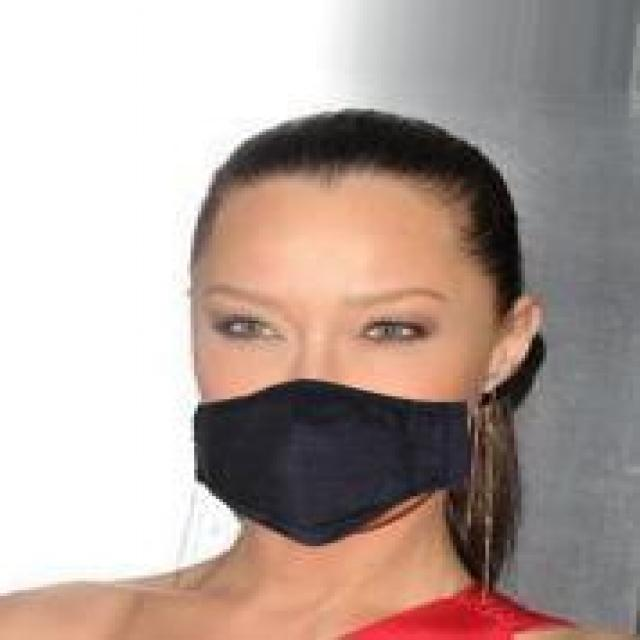mask: (158, 70, 568, 555)
